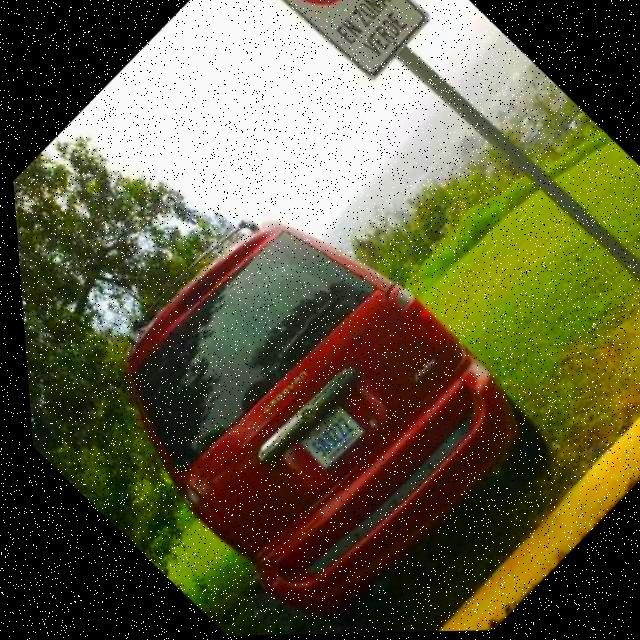license_plate: (288, 403, 362, 473)
